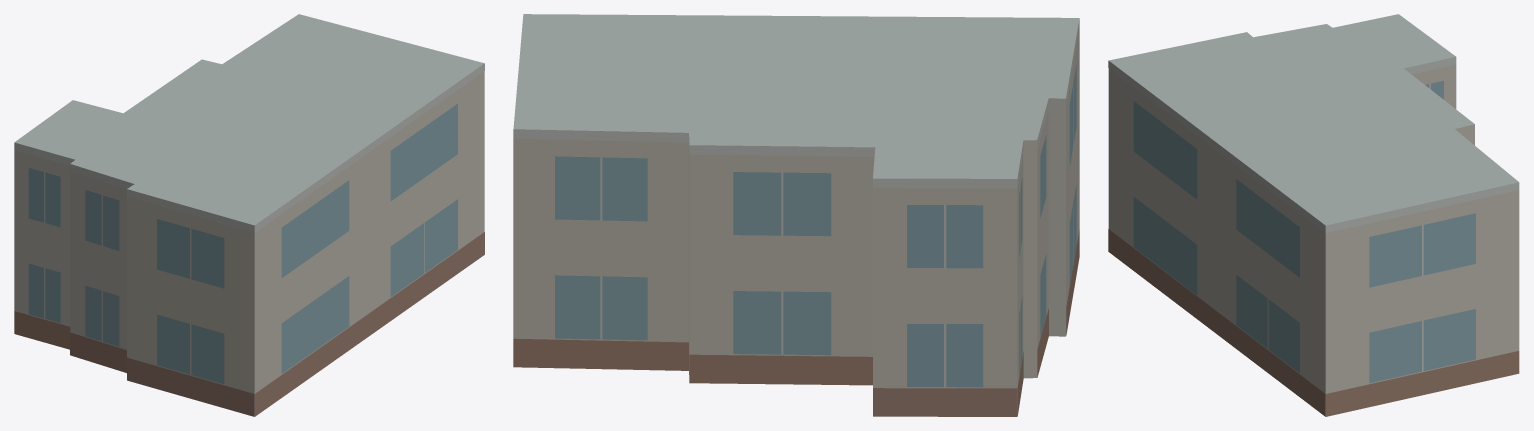
The model's file is survey-upis-33040910.glb.
The picture shows the model from 3 angles, left to right: view 1: azimuth 30°, elevation 25°; view 2: azimuth 150°, elevation 25°; view 3: azimuth 270°, elevation 25°; orthographic projection. The views are drawn at different scales.
Parts seen in each view (by area): view 1: survey-upis-33040910.tmp; view 2: survey-upis-33040910.tmp; view 3: survey-upis-33040910.tmp.
Boxes of the visible parts, x1,y1,x2,y2 form: survey-upis-33040910.tmp: (14,14,484,416); survey-upis-33040910.tmp: (513,14,1079,416); survey-upis-33040910.tmp: (1108,14,1519,416).
Bounding box in the file's own units: 14.48 × 6.1 × 11.89.
